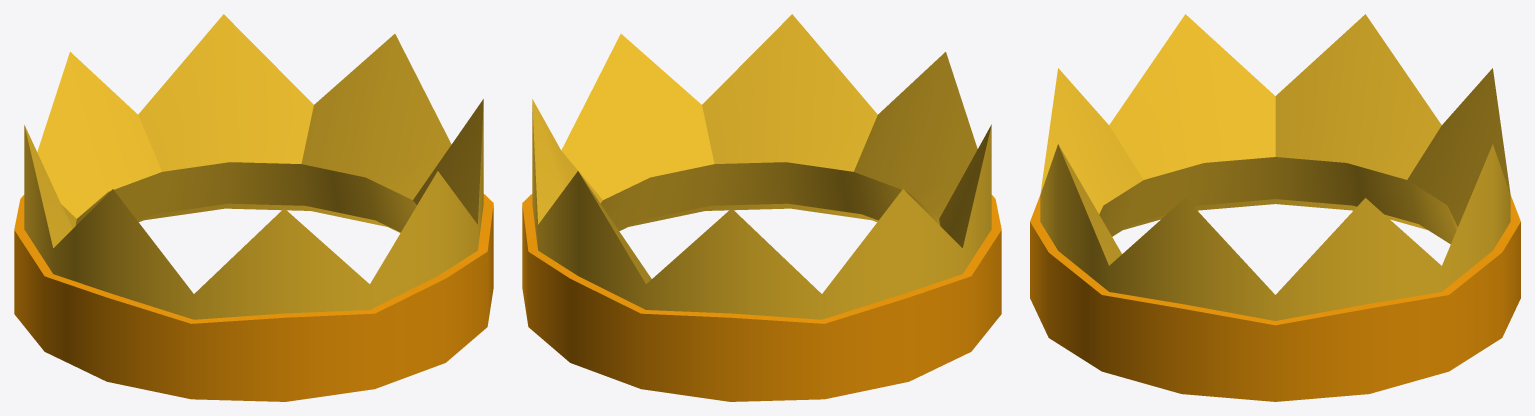
Rendered from Crown.fbx.
The picture shows the model from 3 angles, left to right: view 1: azimuth 30°, elevation 25°; view 2: azimuth 150°, elevation 25°; view 3: azimuth 270°, elevation 25°; orthographic projection.
Parts seen in each view (by area): view 1: Crown; view 2: Crown; view 3: Crown.
Boxes of the visible parts, x1,y1,x2,y2 form: Crown: (14, 14, 493, 401); Crown: (522, 14, 1001, 401); Crown: (1030, 14, 1520, 401).
Size of the model in its own units: 16.68 by 7.21 by 16.68.
1 material, 1 textured.
